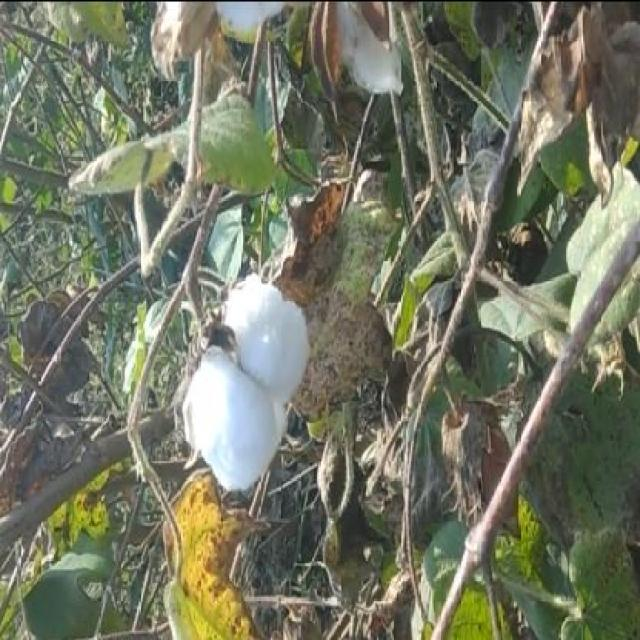cotton_ready: (171, 266, 312, 489)
